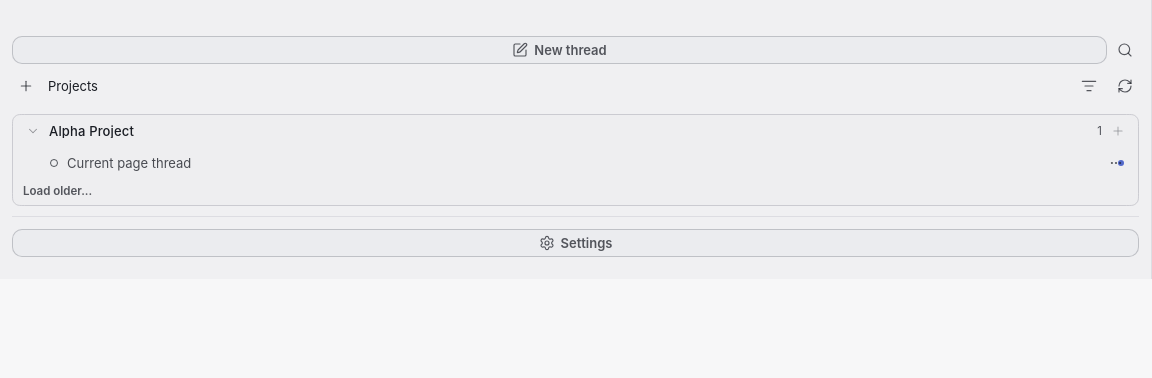
Test: Sidebar › keeps a project visible during search when only older pages may contain matches
Click the button named "Toggle search". click: (1125, 50)
box: [1111,36,1139,64]
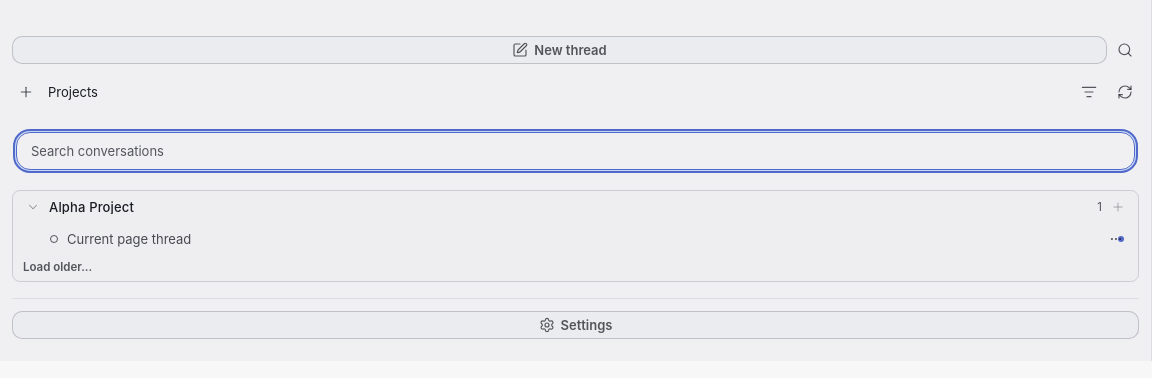
Type "historical" into the field labelled "Search conversations". click: (576, 151)
box: [16,132,1135,170]
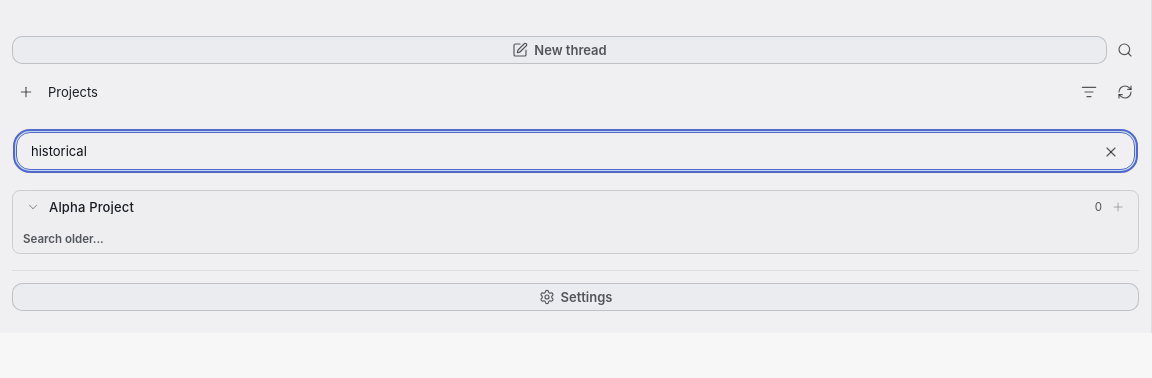
Expected: the text "Alpha Project" is shown, [49,200,134,214]
Expected: the button "Search older..." is shown, [15,227,1136,251]
Expected: the button "Current page thread" is gone
